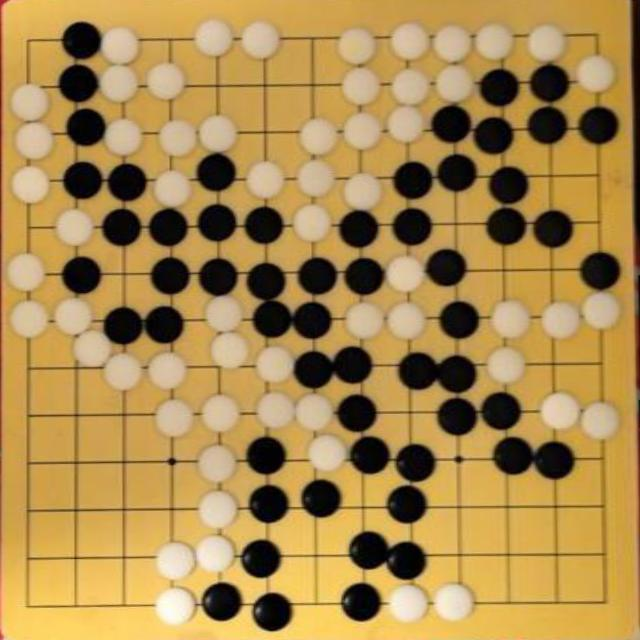blackstone: (58, 63, 100, 105), (437, 397, 480, 438), (107, 162, 149, 203), (580, 251, 621, 293), (252, 299, 294, 340), (246, 436, 288, 477), (534, 440, 576, 481), (248, 484, 290, 525), (387, 484, 429, 525), (62, 255, 103, 296), (149, 207, 190, 248), (66, 108, 108, 148), (150, 256, 192, 296), (198, 203, 240, 243), (244, 206, 286, 246), (199, 256, 241, 296), (144, 305, 186, 345), (431, 104, 473, 144), (488, 165, 530, 205), (578, 106, 620, 146), (480, 392, 522, 432), (337, 394, 379, 434), (493, 437, 535, 477), (102, 208, 143, 248), (197, 152, 238, 192), (103, 306, 144, 346), (533, 209, 574, 249), (529, 64, 570, 104), (486, 206, 527, 246), (340, 209, 381, 249), (437, 354, 478, 394), (349, 531, 390, 571), (341, 583, 382, 623), (201, 582, 242, 622), (478, 68, 520, 107), (64, 161, 104, 201), (438, 154, 478, 194), (440, 300, 480, 340), (247, 262, 287, 302), (333, 346, 373, 386), (294, 350, 334, 390), (399, 351, 439, 391), (396, 444, 436, 484), (302, 479, 342, 519), (528, 106, 569, 145), (298, 256, 339, 295), (349, 436, 390, 475), (394, 161, 434, 200), (392, 208, 432, 247), (345, 257, 385, 296), (292, 301, 332, 340), (386, 542, 426, 581), (474, 116, 515, 154), (426, 249, 467, 287), (63, 21, 104, 59), (241, 540, 282, 578), (252, 593, 292, 631)
whitestone: (198, 490, 239, 531), (198, 444, 238, 485), (540, 392, 581, 432), (9, 300, 50, 340), (434, 583, 475, 623), (256, 391, 296, 431), (154, 399, 194, 439), (308, 434, 348, 474), (54, 297, 94, 337), (72, 329, 112, 369), (104, 118, 144, 158), (581, 291, 621, 331), (156, 541, 196, 581), (12, 165, 52, 205), (196, 534, 236, 574), (7, 252, 47, 292), (10, 83, 50, 123), (576, 54, 616, 94), (389, 584, 429, 624), (486, 348, 527, 387), (540, 301, 581, 340), (155, 587, 196, 626), (344, 302, 384, 341), (296, 393, 335, 433), (205, 295, 245, 334), (148, 351, 188, 390), (103, 352, 143, 391), (246, 160, 285, 200), (158, 119, 198, 158), (198, 115, 238, 154), (435, 64, 474, 104), (100, 64, 139, 104), (15, 122, 55, 161), (580, 401, 619, 441), (491, 300, 532, 338), (386, 105, 425, 144), (241, 20, 280, 59), (292, 204, 332, 242), (201, 395, 241, 433), (344, 172, 384, 210), (56, 208, 96, 246), (341, 67, 381, 105), (390, 68, 430, 106), (146, 63, 186, 101), (100, 26, 140, 64), (387, 303, 426, 341), (210, 332, 249, 370), (154, 170, 193, 208), (297, 160, 336, 198), (343, 111, 382, 149), (475, 23, 514, 61), (390, 22, 429, 60), (337, 27, 376, 65), (194, 19, 233, 57), (386, 255, 426, 292), (256, 344, 294, 382), (434, 24, 472, 62), (528, 24, 566, 62), (299, 118, 338, 154)
